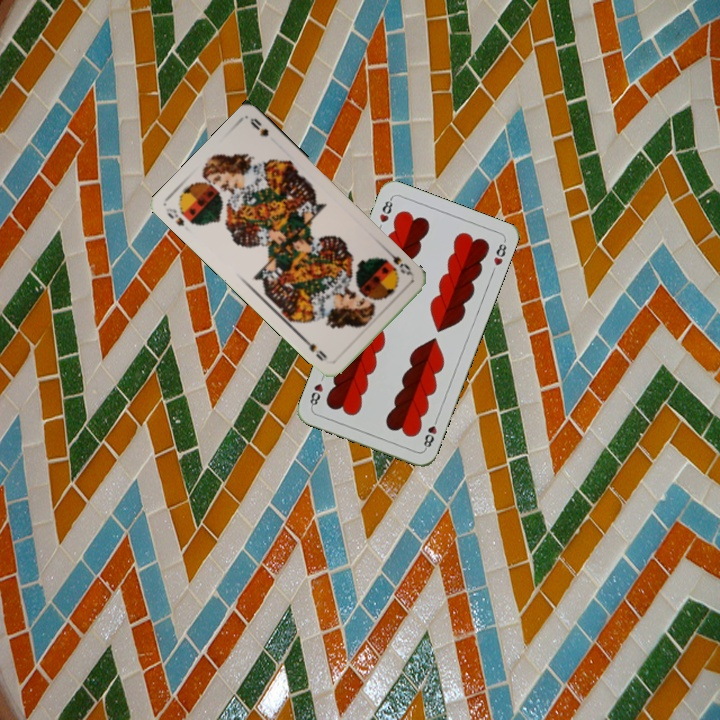H8: (419, 413, 441, 452), (375, 194, 395, 225)
SO: (383, 247, 416, 278), (162, 204, 187, 229)
